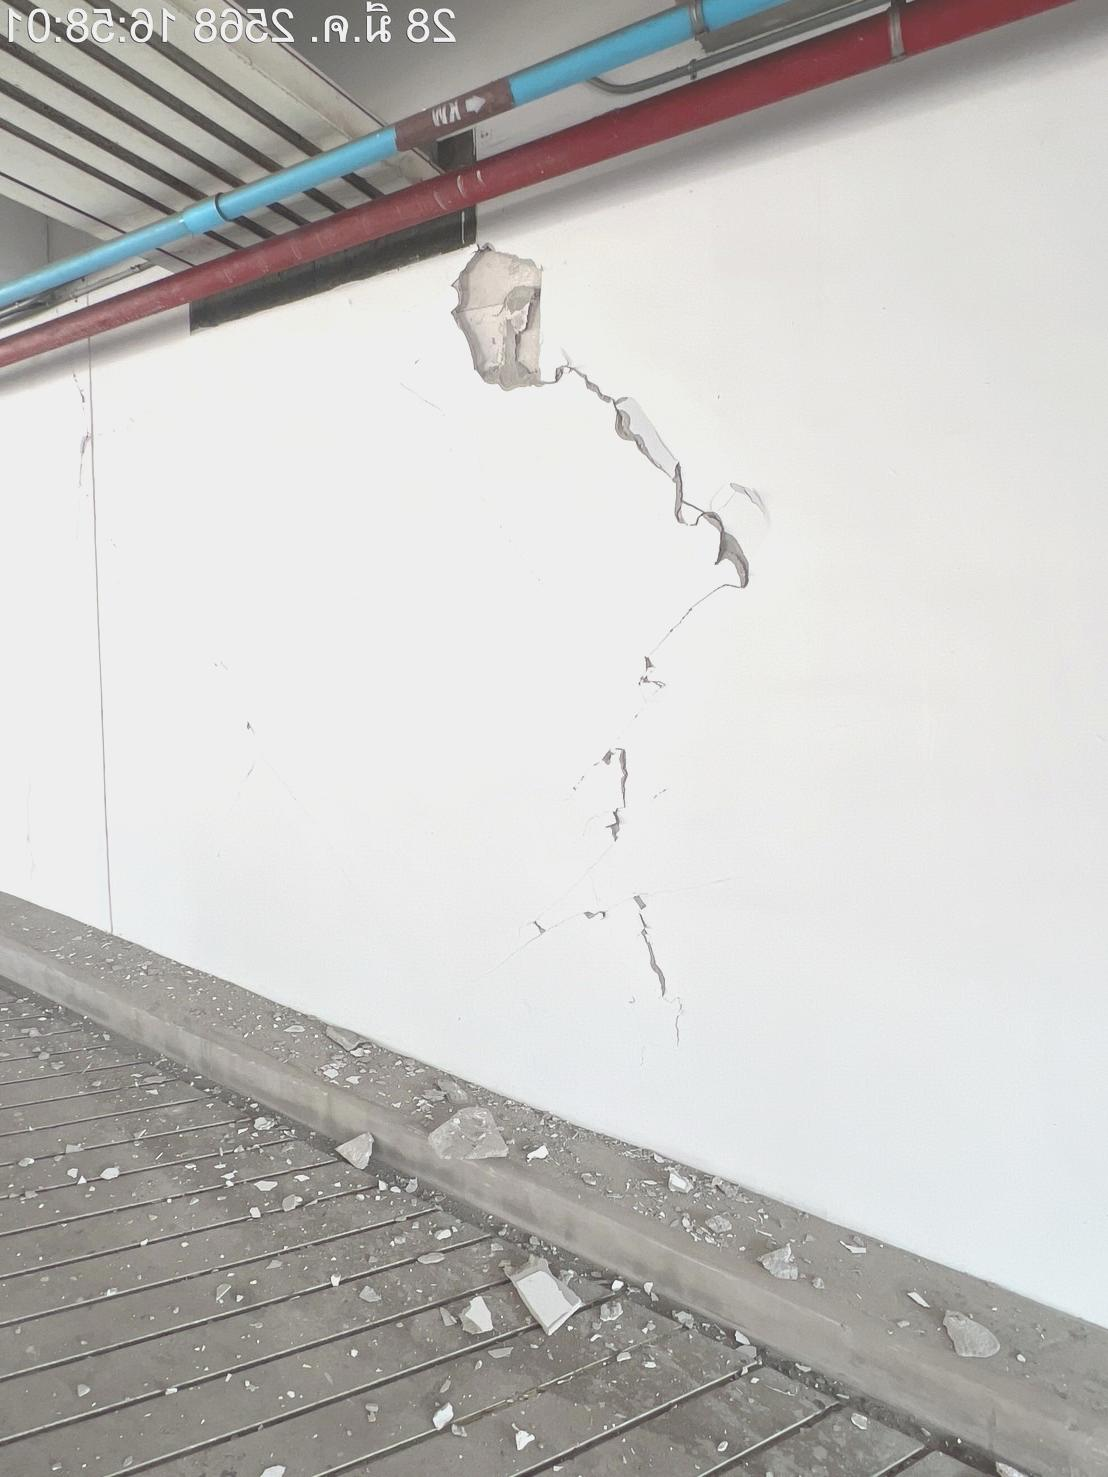High: (420, 240, 810, 1130)
